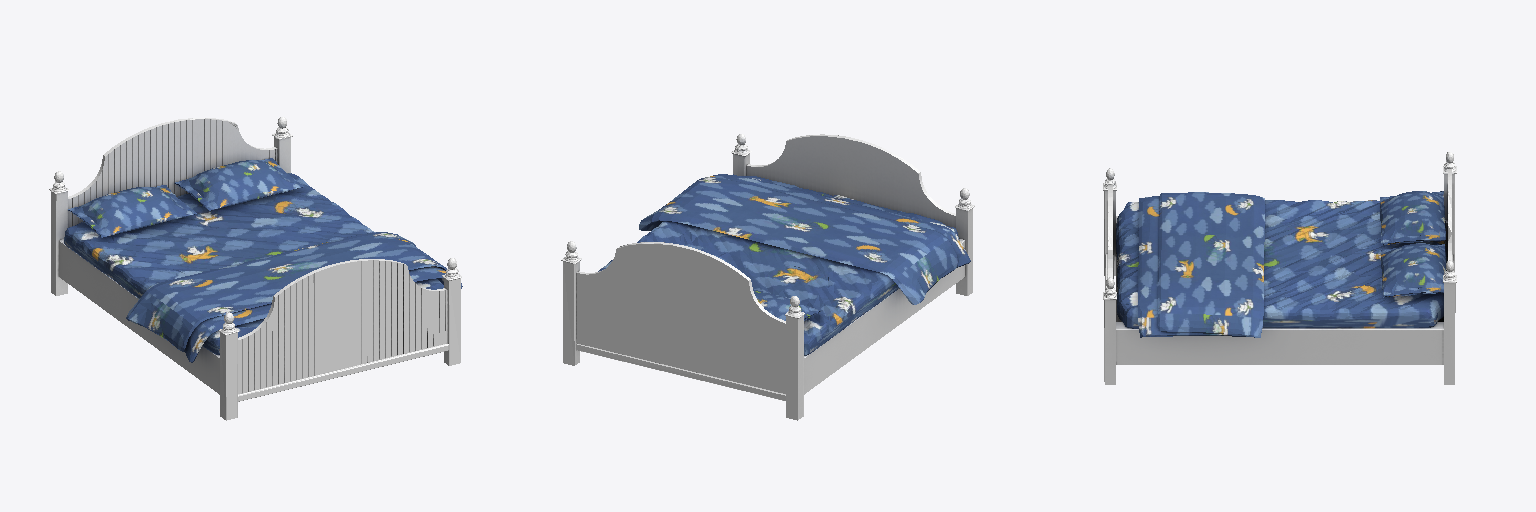
3 views of the same model, side by side, from view 1: azimuth 30°, elevation 25°; view 2: azimuth 150°, elevation 25°; view 3: azimuth 270°, elevation 25° (orthographic).
Visible parts, largest first — view 1: solid_001, solid_002; view 2: solid_001, solid_002; view 3: solid_002, solid_001.
Part boxes in pixels (x1,y1,x2,y2): solid_001: (49, 117, 461, 420); solid_002: (64, 158, 462, 362); solid_001: (561, 134, 974, 420); solid_002: (598, 174, 970, 355); solid_002: (1116, 191, 1446, 337); solid_001: (1103, 152, 1456, 384).
Bounding box in the file's own units: 1.85 × 0.8946 × 2.
1 materials, 1 textured.